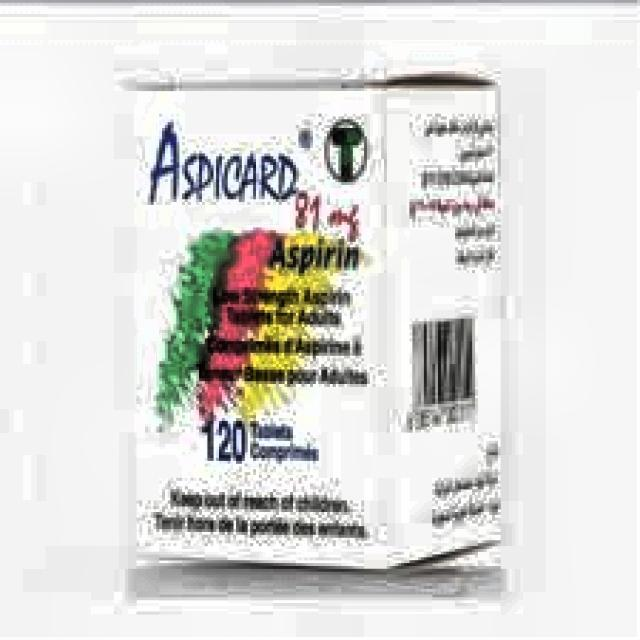Aspirin: (144, 119, 306, 218)
